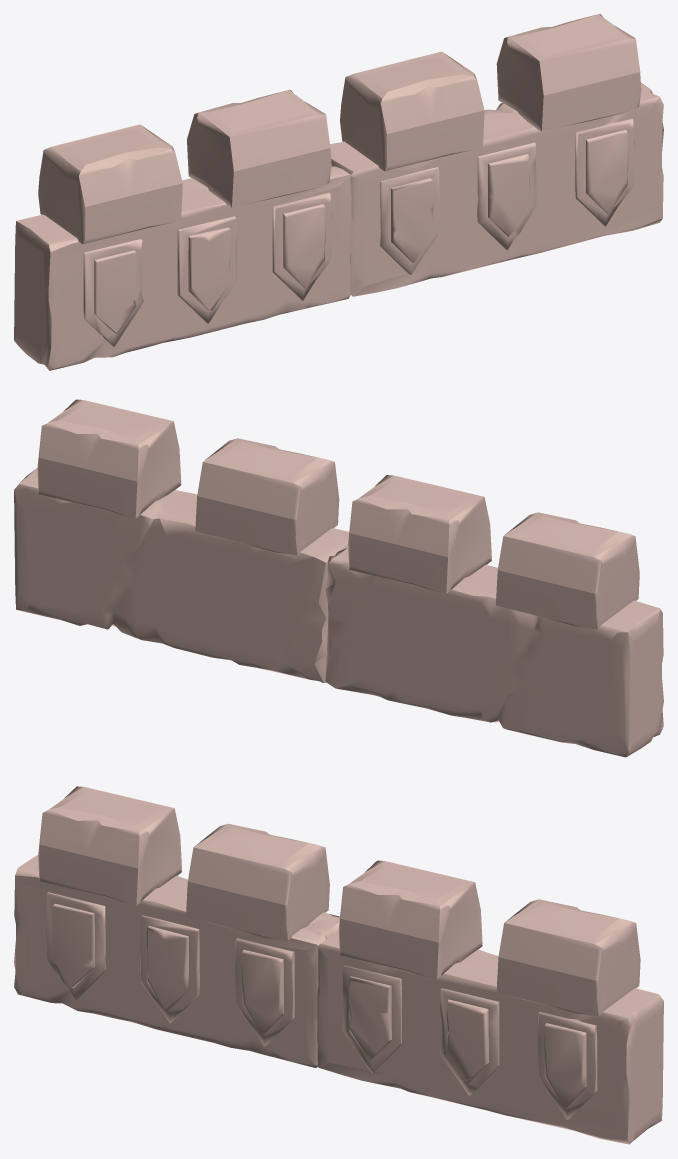
The model's file is Bariere_short_3_line_x2.fbx.
3 renders of one model, top to bottom at view 1: azimuth 30°, elevation 25°; view 2: azimuth 150°, elevation 25°; view 3: azimuth 330°, elevation 25°, orthographic.
Parts seen in each view (by area): view 1: Bariere_short_3_line_x2_LOD0; view 2: Bariere_short_3_line_x2_LOD0; view 3: Bariere_short_3_line_x2_LOD0.
Boxes of the visible parts, <box> form: Bariere_short_3_line_x2_LOD0: <box>14,14,663,370</box>; Bariere_short_3_line_x2_LOD0: <box>14,399,663,757</box>; Bariere_short_3_line_x2_LOD0: <box>14,786,663,1144</box>.
Size of what is drawn, in the model's own units: 252 by 76.95 by 32.21.
